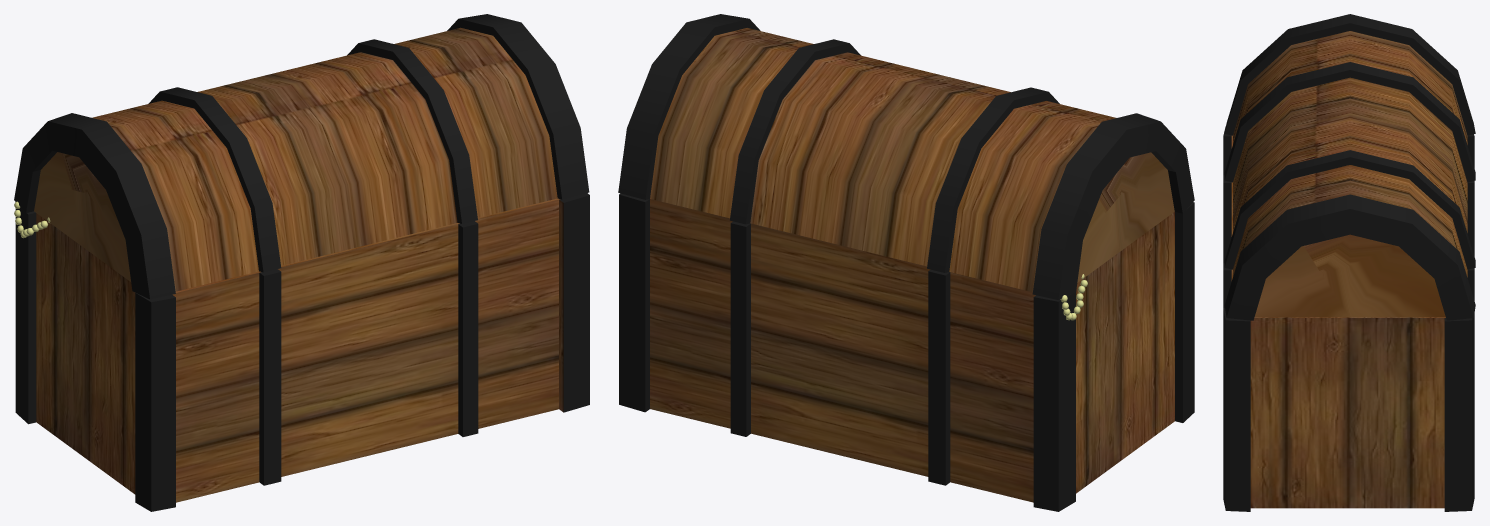
The model's file is Treasure_Chest.FBX.
3 renders of one model, left to right at view 1: azimuth 30°, elevation 25°; view 2: azimuth 150°, elevation 25°; view 3: azimuth 270°, elevation 25°, orthographic. The views are drawn at different scales.
Parts seen in each view (by area): view 1: Chest, Lid; view 2: Chest, Lid; view 3: Lid, Chest.
Part boxes in pixels (x1,y1,x2,y2): Chest: [15, 193, 589, 511]; Lid: [14, 14, 589, 299]; Chest: [619, 193, 1194, 511]; Lid: [618, 14, 1194, 299]; Lid: [1224, 14, 1475, 320]; Chest: [1223, 126, 1474, 511].
Bounding box in the file's own units: 650 × 463 × 349.
Materials: 4 (1 with a texture image).
